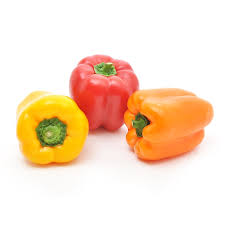bell pepper: (121, 82, 215, 176), (64, 49, 140, 141), (10, 87, 97, 167)
